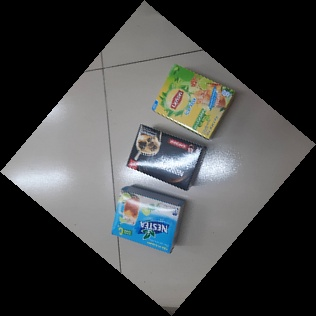CF Viet: (126, 124, 205, 191)
LipTon: (150, 63, 237, 142)
Nestea: (110, 186, 185, 255)
